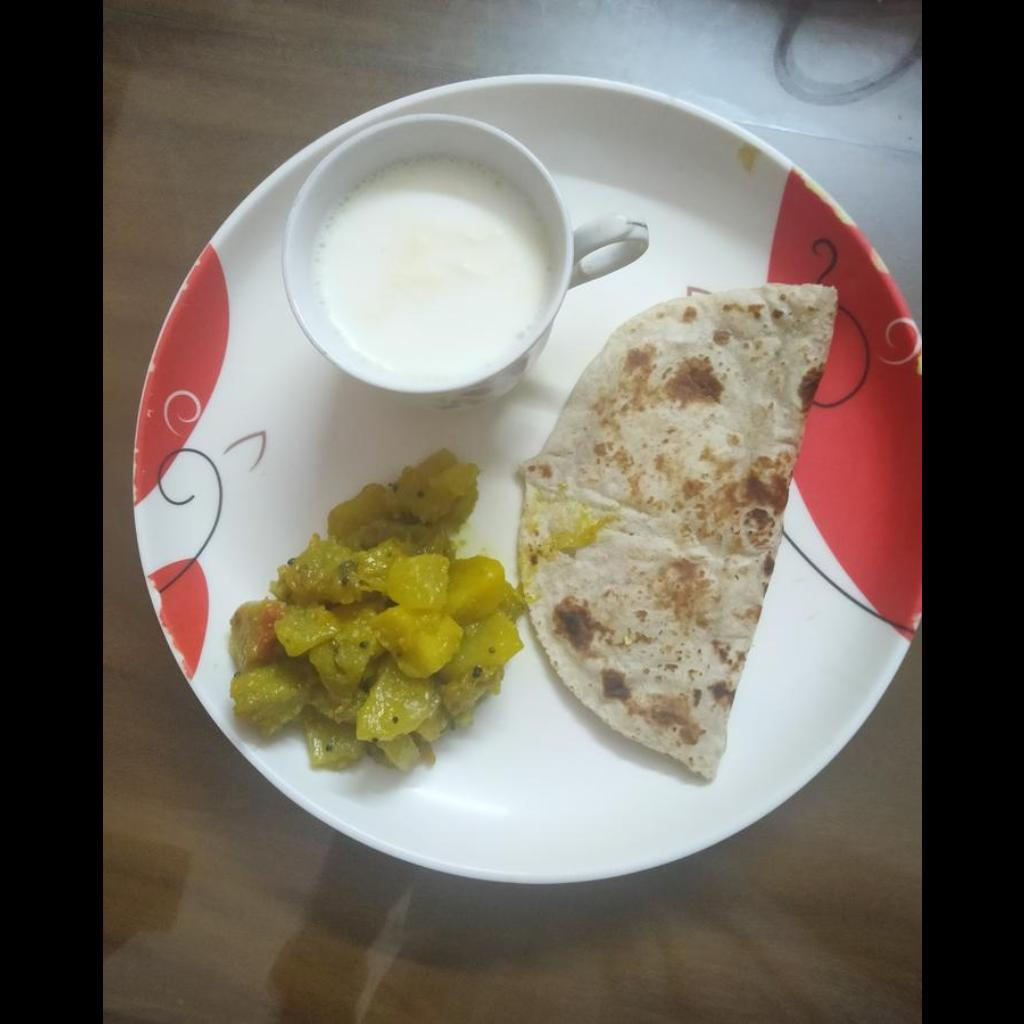milk: (312, 161, 549, 382)
ruti: (518, 287, 840, 785)
vegetable: (228, 448, 524, 766)
